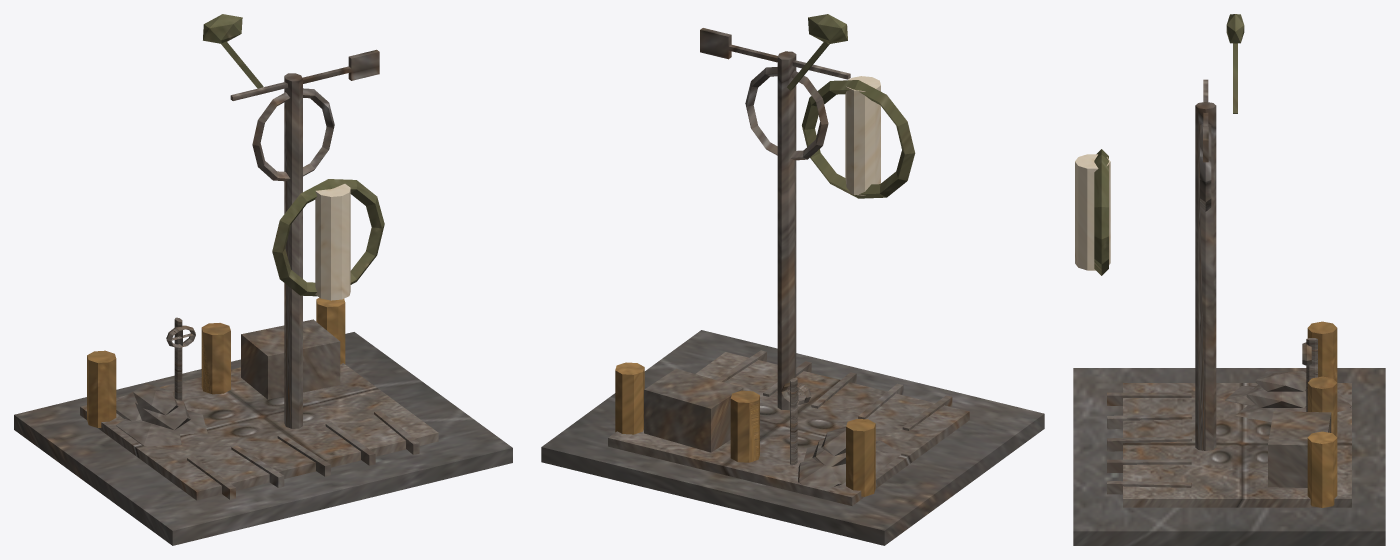
File: west-seed-vault.glb
3 renders of one model, left to right at view 1: azimuth 30°, elevation 25°; view 2: azimuth 150°, elevation 25°; view 3: azimuth 270°, elevation 25°, orthographic. The views are drawn at different scales.
Parts seen in each view (by area): view 1: west-seed-vault; view 2: west-seed-vault; view 3: west-seed-vault.
Boxes of the visible parts, x1,y1,x2,y2 form: west-seed-vault: (14,14,512,545); west-seed-vault: (541,14,1044,545); west-seed-vault: (1073,14,1385,545).
Size of the model in its own units: 5.2 by 6.42 by 4.2.
Materials: 1 (1 with a texture image).
